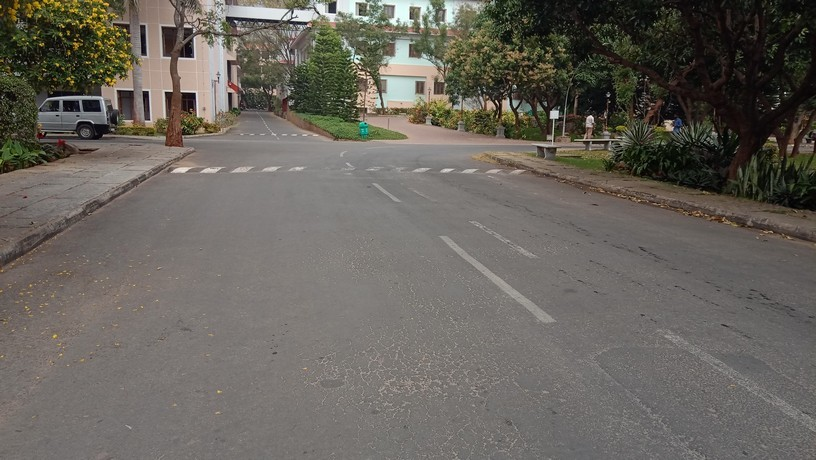bump: (169, 163, 531, 181)
